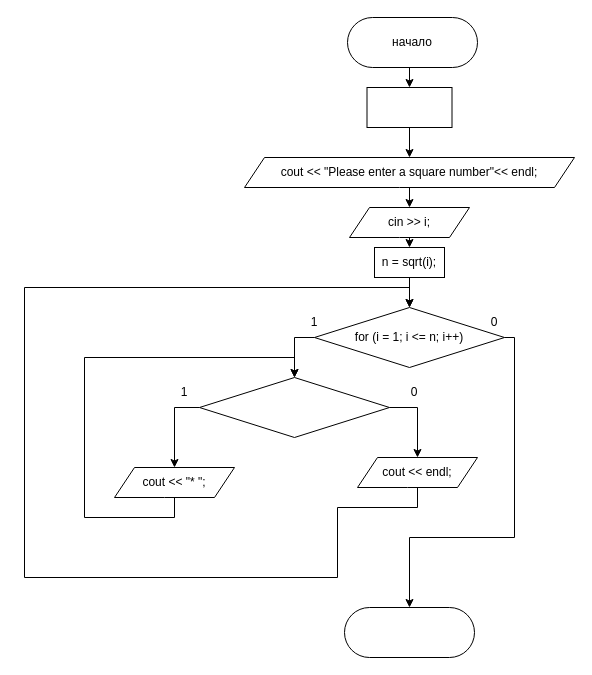
This 592x675 diagram has some shape labels left out. The centre of each missing label's shape, as x and y in pixels:
for (j = 1; j <= n; j++): the point at 294,407
int n,i,j;: the point at 409,107
Конец: the point at 409,632
